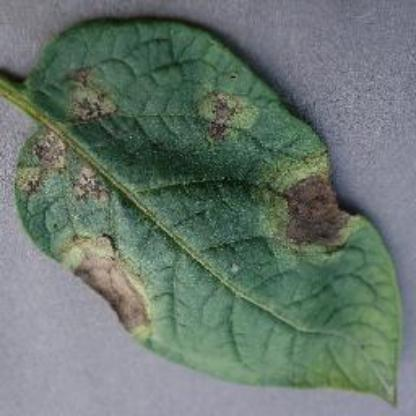Late-Blight: (2, 16, 402, 402)
